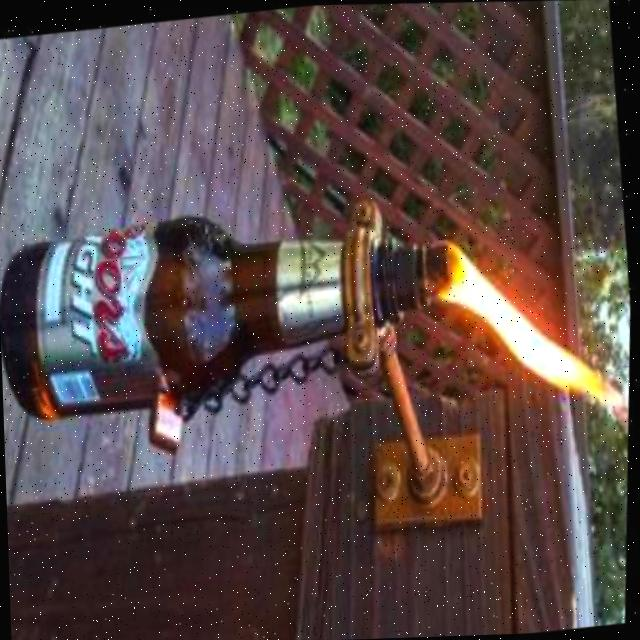fire: (428, 225, 624, 439)
